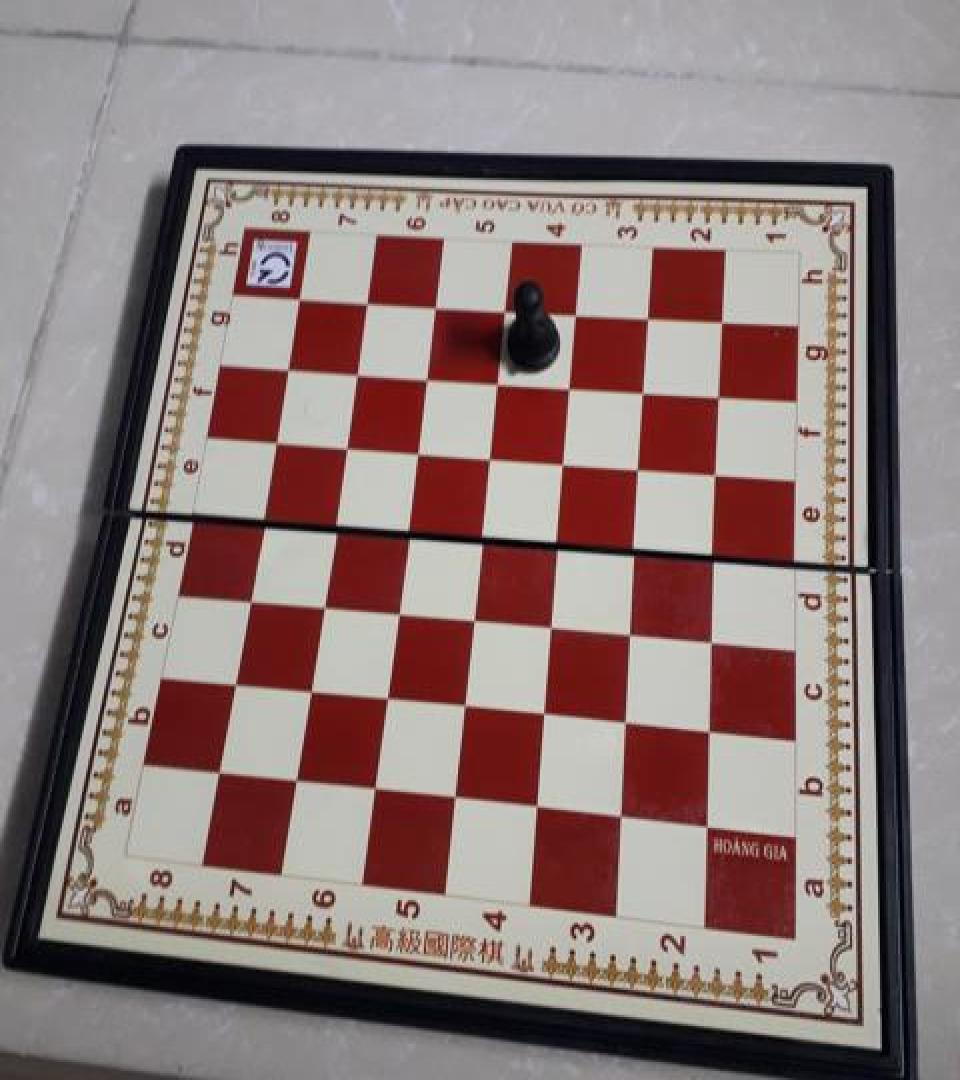xcorner: (450, 688, 478, 720), (530, 696, 558, 728), (611, 704, 639, 736), (695, 712, 723, 744), (235, 580, 263, 612), (308, 587, 336, 619), (383, 594, 411, 626), (537, 607, 565, 639), (616, 614, 644, 646), (698, 621, 726, 653), (320, 506, 348, 538), (468, 517, 496, 549), (544, 523, 572, 555), (700, 535, 728, 567), (262, 424, 290, 456), (403, 433, 431, 465), (550, 443, 578, 475), (703, 453, 731, 485), (274, 351, 302, 383), (343, 355, 371, 387), (484, 363, 512, 395), (630, 371, 658, 403), (286, 281, 314, 313), (422, 288, 450, 320), (491, 291, 519, 323), (634, 298, 662, 330), (708, 301, 736, 333), (205, 754, 233, 785), (282, 763, 310, 794), (360, 772, 388, 803), (440, 781, 468, 812), (522, 790, 550, 821), (606, 799, 634, 830), (691, 808, 719, 839), (220, 665, 248, 696), (295, 673, 323, 704), (372, 681, 400, 712), (459, 601, 487, 632), (249, 501, 277, 532), (393, 512, 421, 543), (621, 529, 649, 560), (332, 429, 360, 460), (476, 439, 504, 470), (626, 449, 654, 480), (413, 359, 441, 390), (556, 367, 584, 398), (706, 376, 734, 407), (354, 285, 382, 316), (562, 295, 590, 326)
